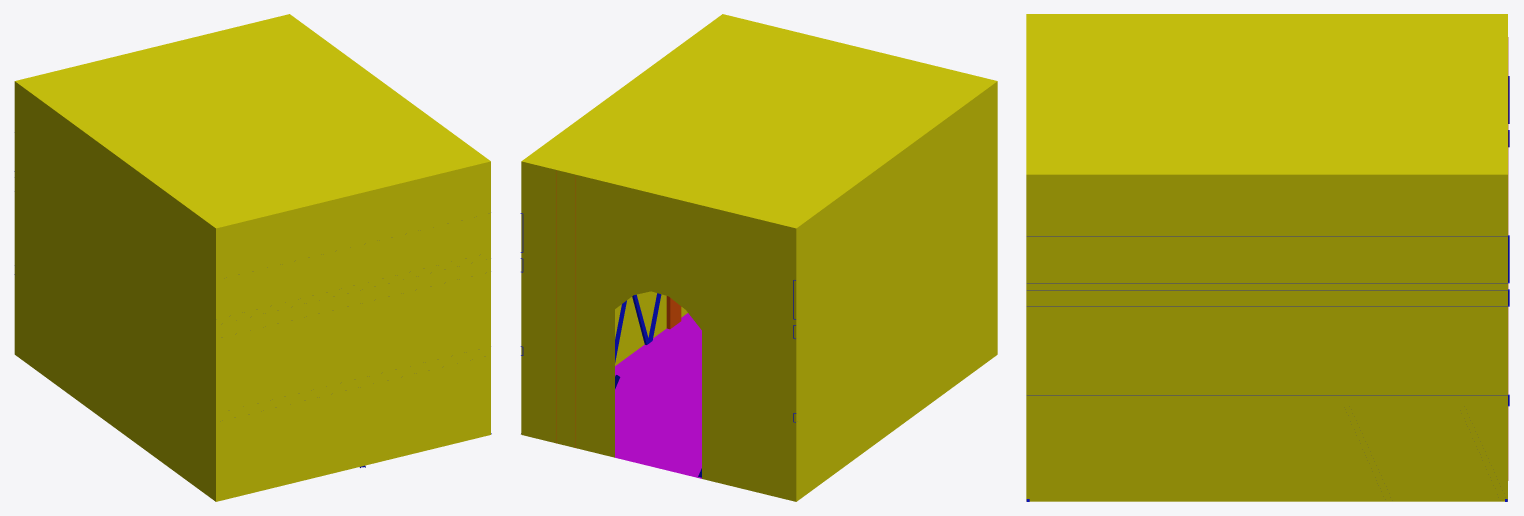
The model's file is room.fbx.
3 renders of one model, left to right at view 1: azimuth 30°, elevation 25°; view 2: azimuth 150°, elevation 25°; view 3: azimuth 270°, elevation 25°, orthographic. The views are drawn at different scales.
Visible parts, largest first — view 1: Box001; view 2: Box001; view 3: Box001.
Part boxes in pixels (x1=…): Box001: x1=14, y1=14, x2=491, y2=501; Box001: x1=520, y1=14, x2=997, y2=501; Box001: x1=1026, y1=14, x2=1509, y2=501.
Size of the model in its own units: 126 by 120 by 160.
